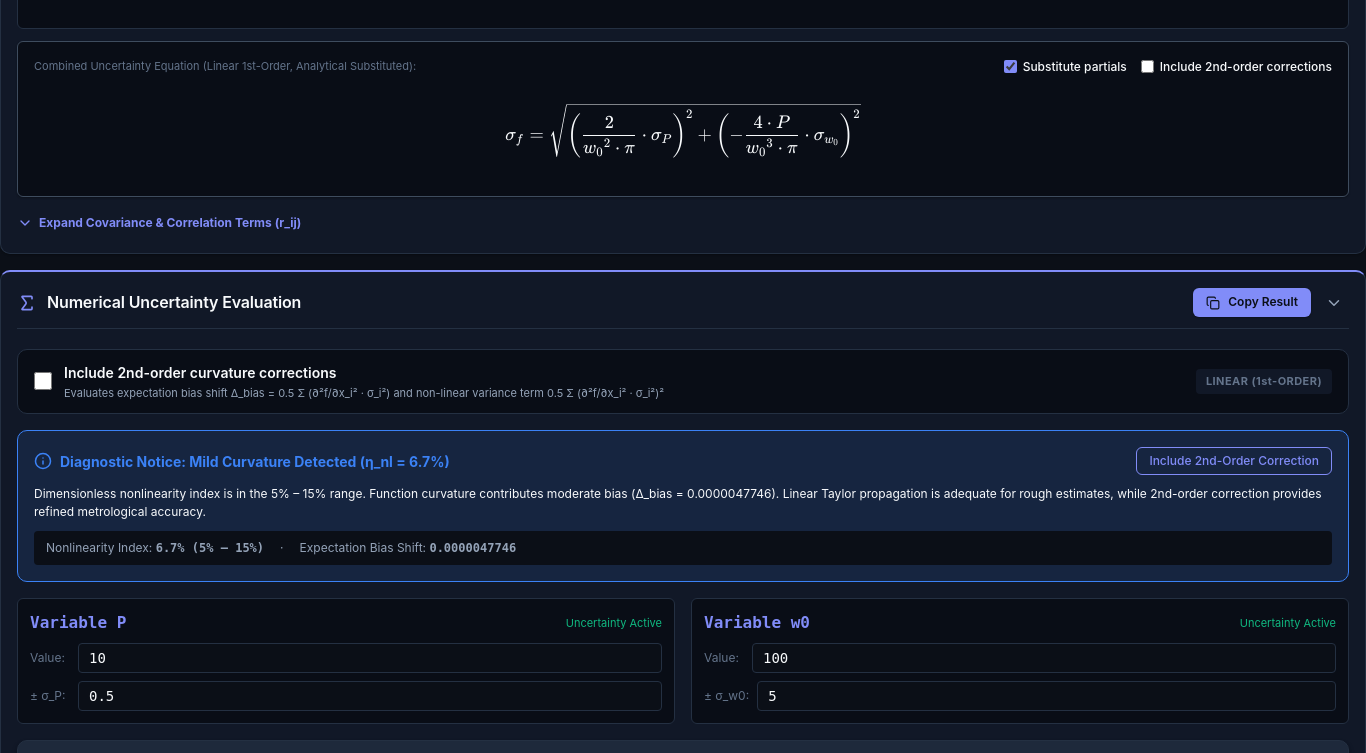
Test: ErrorPropagationView Component & Second-Order Interaction › allows clicking the persistent toggle anytime and reveals comparison pill
(page scrolled)
// Click toggle to turn ON 2nd-order correction
Click the checkbox labelled "Include 2nd-order curvature corrections". click: coordinates (43, 381)
box: [34,372,52,390]
(page scrolled)
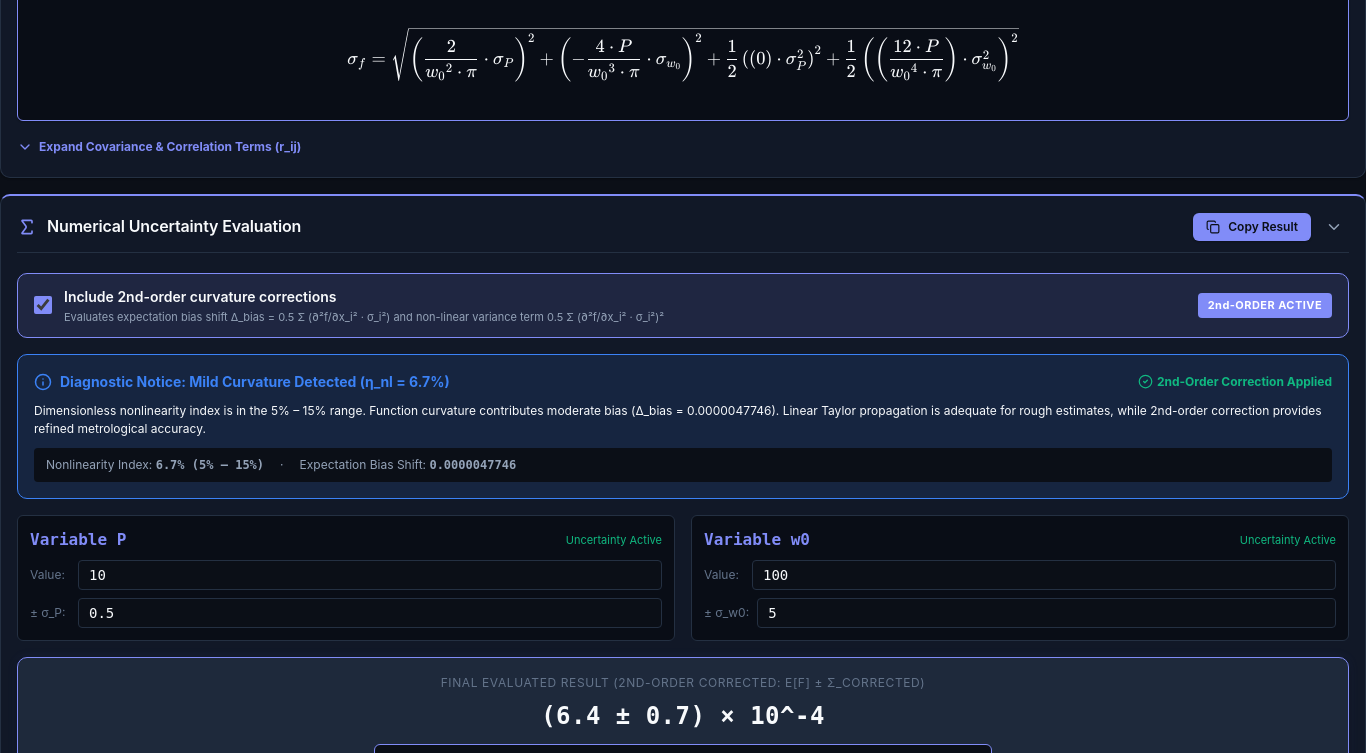
Check: the checkbox labelled "Include 2nd-order curvature corrections" is checked, box [34,296,52,314]
Check: the text "2nd-ORDER ACTIVE" is shown, box [1198,293,1332,318]
Check: the text "2nd-Order Correction Applied" is shown, box [1138,373,1332,391]
